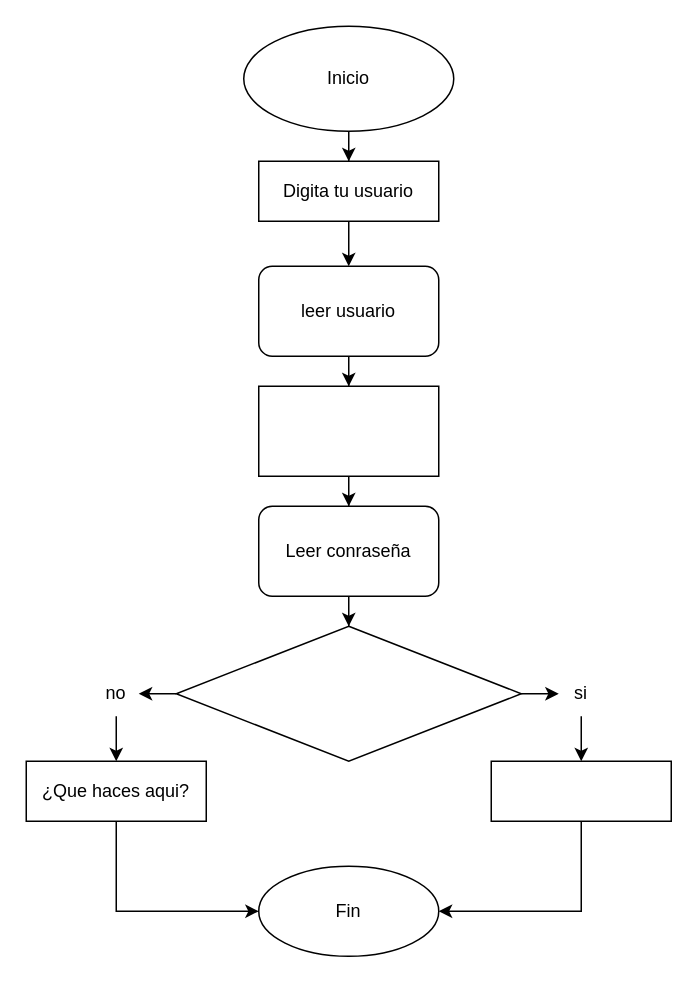
Image size: 698x983. Some labels were removed from this diagram. Each missing label, with the centre of its shape:
"Bienvenido" goes at (x=580, y=790).
"Digita tu contraseña" goes at (x=348, y=430).
"usuario==user and password==pass" goes at (x=348, y=693).
